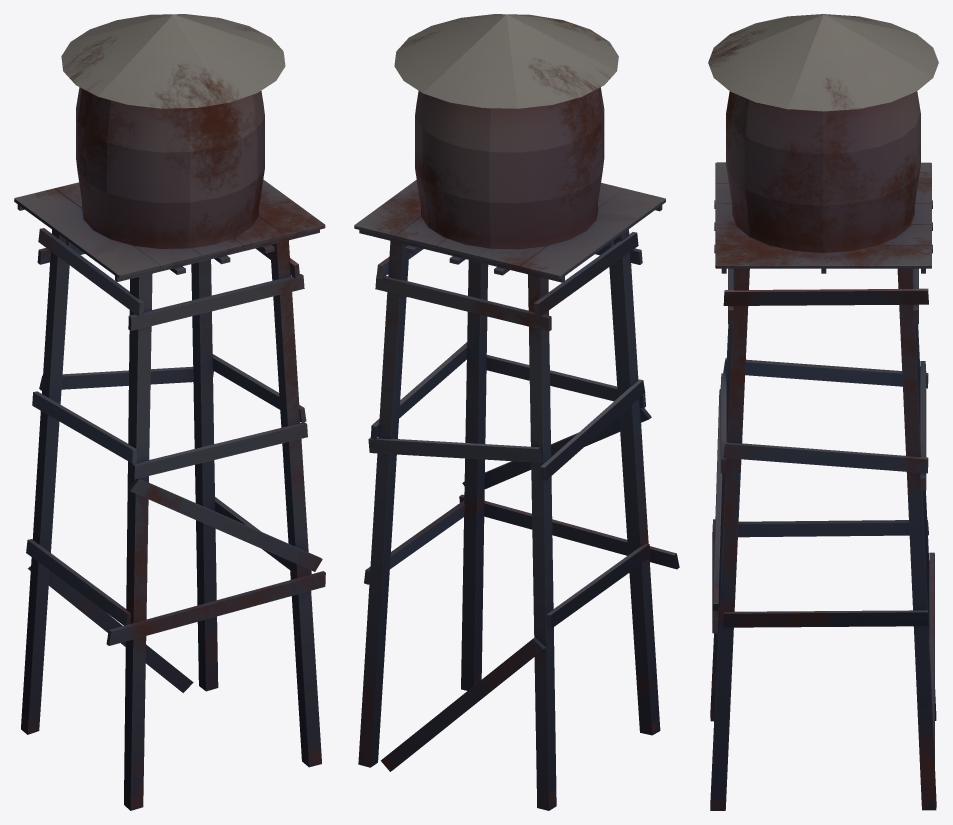
File: Watertower.glb
3 views of the same model, side by side, from view 1: azimuth 30°, elevation 25°; view 2: azimuth 150°, elevation 25°; view 3: azimuth 270°, elevation 25° (orthographic). The views are drawn at different scales.
Visible parts, largest first — view 1: WaterTower; view 2: WaterTower; view 3: WaterTower.
Part boxes in pixels (x1,y1,x2,y2): WaterTower: (14, 14, 325, 810); WaterTower: (354, 14, 679, 810); WaterTower: (708, 14, 938, 810).
Size of the model in its own units: 1.48 by 4.73 by 1.32.
Materials: 1 (1 with a texture image).
